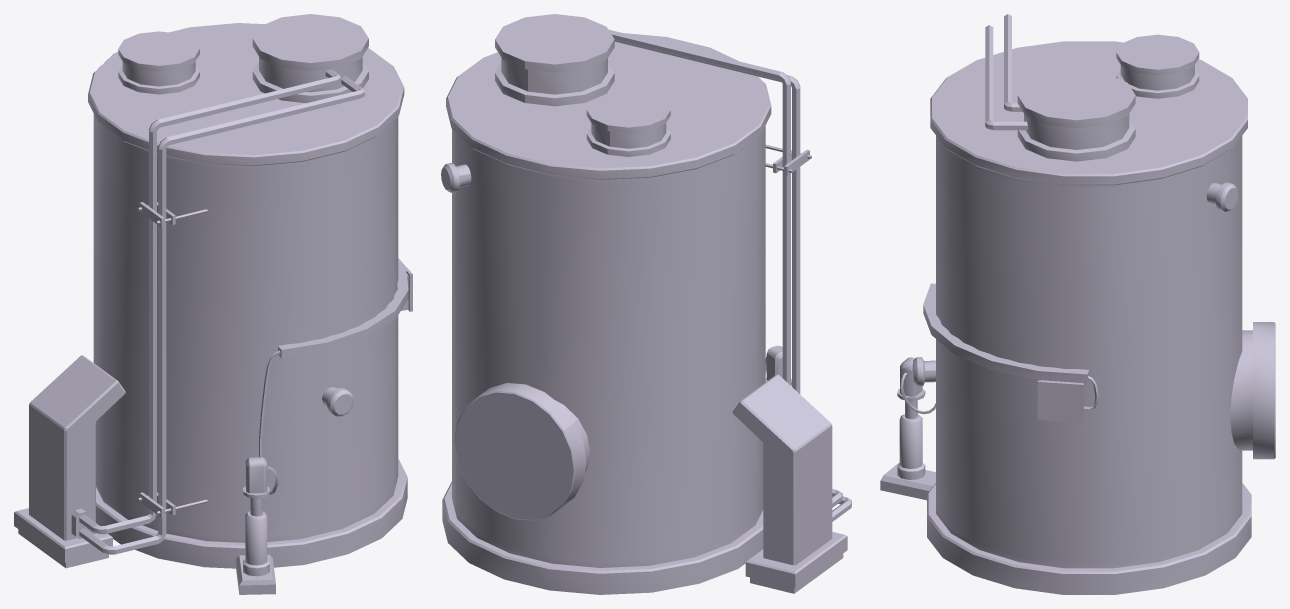
Rendered from boiler1.fbx.
3 views of the same model, side by side, from view 1: azimuth 30°, elevation 25°; view 2: azimuth 150°, elevation 25°; view 3: azimuth 270°, elevation 25° (orthographic). The views are drawn at different scales.
Visible parts, largest first — view 1: AA_Boilers-Standup01_NK_SMesh; view 2: AA_Boilers-Standup01_NK_SMesh; view 3: AA_Boilers-Standup01_NK_SMesh.
Boxes of the visible parts, <box> form: AA_Boilers-Standup01_NK_SMesh: <box>14,14,412,594</box>; AA_Boilers-Standup01_NK_SMesh: <box>441,14,851,594</box>; AA_Boilers-Standup01_NK_SMesh: <box>880,14,1275,594</box>.
Bounding box in the file's own units: 316 × 386 × 300.
